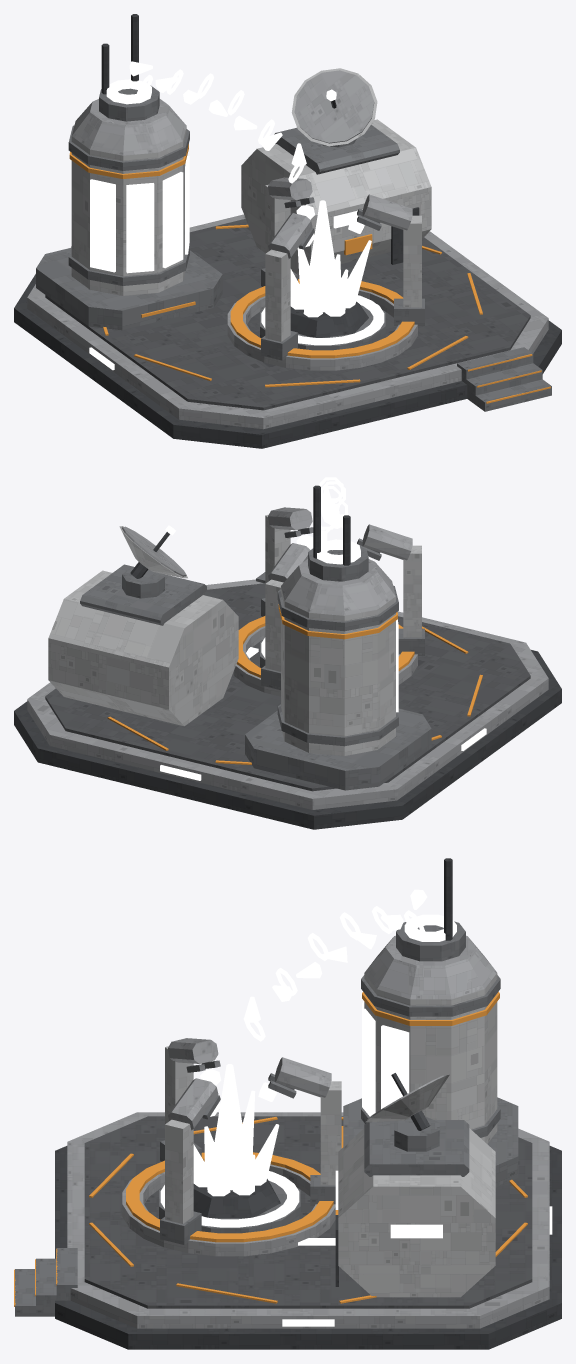
File: rig_crystal_lod1.glb
3 views of the same model, one above another, from view 1: azimuth 30°, elevation 25°; view 2: azimuth 150°, elevation 25°; view 3: azimuth 270°, elevation 25° (orthographic). The views are drawn at different scales.
Parts seen in each view (by area): view 1: rig_crystal_base_body.001, rig_crystal_base_glow.001, rig_crystal_resonator_body.001, rig_crystal_dish_body.001, rig_crystal_base_trim.001, rig_crystal_resonator_trim.001, rig_crystal_shards_glow.001; view 2: rig_crystal_base_body.001, rig_crystal_resonator_body.001, rig_crystal_base_glow.001, rig_crystal_dish_body.001, rig_crystal_base_trim.001, rig_crystal_resonator_trim.001, rig_crystal_shards_glow.001; view 3: rig_crystal_base_body.001, rig_crystal_resonator_body.001, rig_crystal_base_glow.001, rig_crystal_resonator_trim.001, rig_crystal_base_trim.001, rig_crystal_dish_body.001, rig_crystal_shards_glow.001.
Part boxes in pixels (x1,y1,x2,y2): rig_crystal_base_body.001: [14, 14, 561, 448]; rig_crystal_base_glow.001: [89, 69, 384, 370]; rig_crystal_resonator_body.001: [227, 177, 424, 370]; rig_crystal_dish_body.001: [291, 68, 377, 146]; rig_crystal_base_trim.001: [69, 144, 550, 403]; rig_crystal_resonator_trim.001: [230, 279, 414, 358]; rig_crystal_shards_glow.001: [129, 61, 306, 166]; rig_crystal_base_body.001: [14, 485, 561, 829]; rig_crystal_resonator_body.001: [233, 507, 424, 696]; rig_crystal_base_glow.001: [160, 477, 486, 780]; rig_crystal_dish_body.001: [119, 526, 187, 578]; rig_crystal_base_trim.001: [107, 604, 482, 764]; rig_crystal_resonator_trim.001: [236, 616, 414, 677]; rig_crystal_shards_glow.001: [321, 489, 348, 528]; rig_crystal_base_body.001: [15, 858, 561, 1349]; rig_crystal_resonator_body.001: [122, 1038, 341, 1256]; rig_crystal_base_glow.001: [160, 906, 552, 1326]; rig_crystal_resonator_trim.001: [126, 1152, 333, 1242]; rig_crystal_base_trim.001: [14, 992, 527, 1306]; rig_crystal_dish_body.001: [365, 1073, 449, 1130]; rig_crystal_shards_glow.001: [243, 889, 427, 1022].
Size of the model in its own units: 2.9 by 2.1 by 3.13.
Materials: 3 (1 with a texture image).
